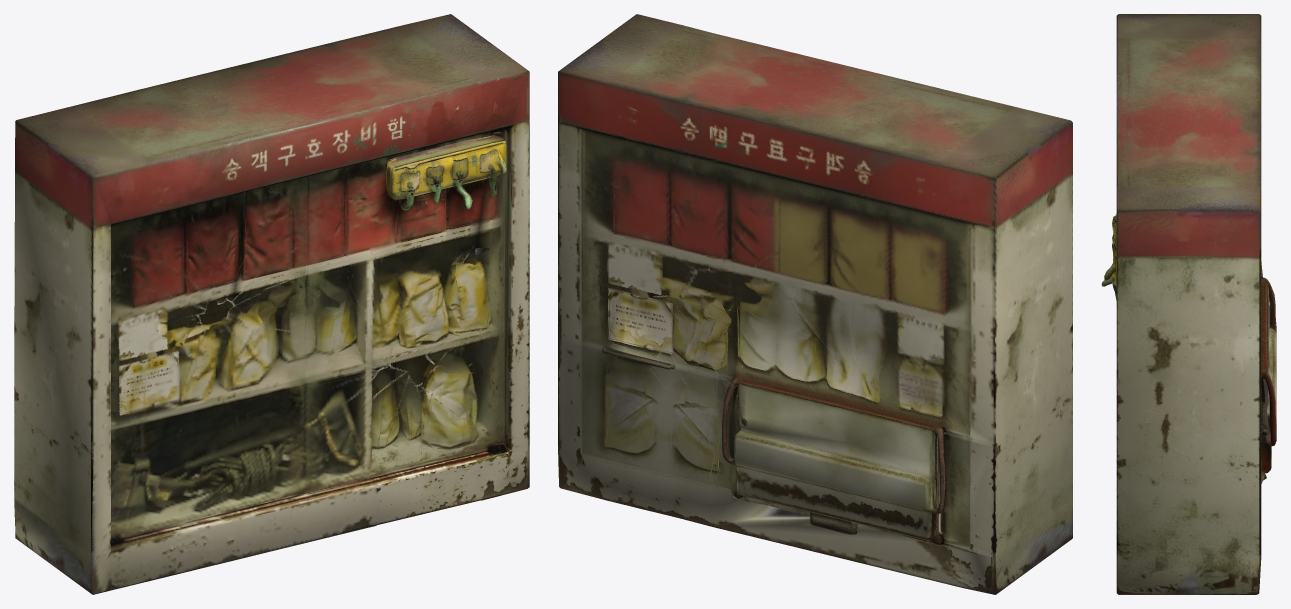
File: Meshy_AI_Vintage_Passenger_Res_0519011228_texture.fbx
3 renders of one model, left to right at view 1: azimuth 30°, elevation 25°; view 2: azimuth 150°, elevation 25°; view 3: azimuth 270°, elevation 25°, orthographic. The views are drawn at different scales.
Parts seen in each view (by area): view 1: Mesh_0; view 2: Mesh_0; view 3: Mesh_0.
Boxes of the visible parts, bbox=[...] form: Mesh_0: bbox=[14, 14, 529, 594]; Mesh_0: bbox=[558, 14, 1072, 594]; Mesh_0: bbox=[1101, 14, 1276, 594].
Bounding box in the file's own units: 191 × 174 × 71.62.
1 material, 1 textured.
